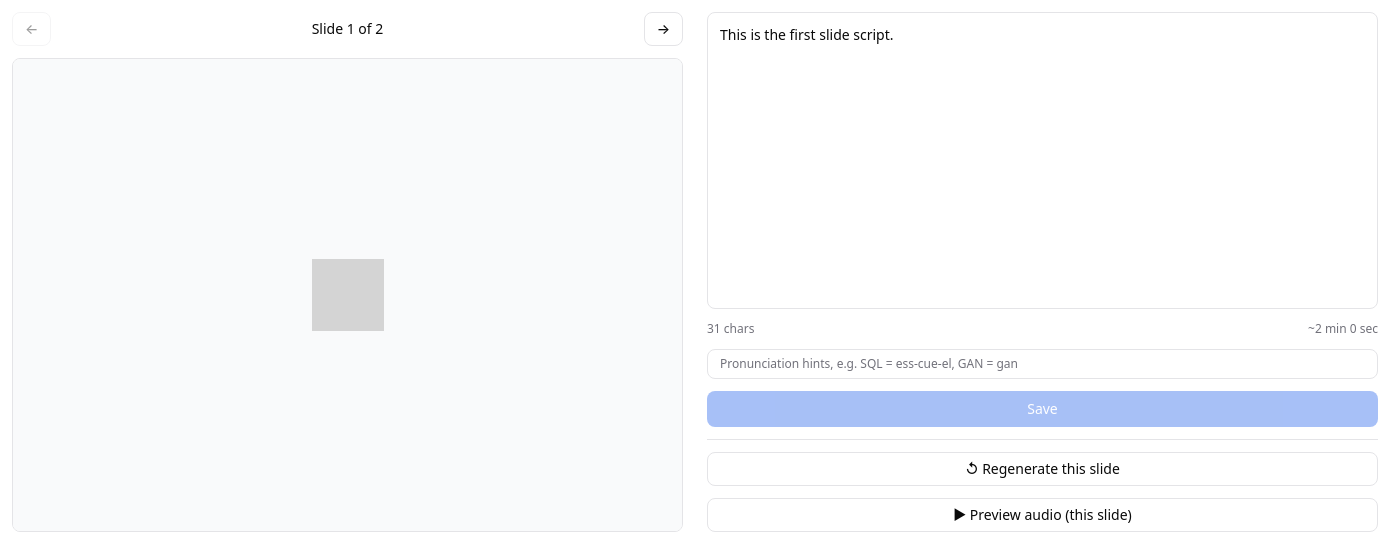
Test case: SlideEditor › clicking Next renders slide 2 content
The width and height of the screenshot is (1390, 549).
Click the button named "Next slide".
click(663, 29)  # box left=644, top=12, right=683, bottom=46
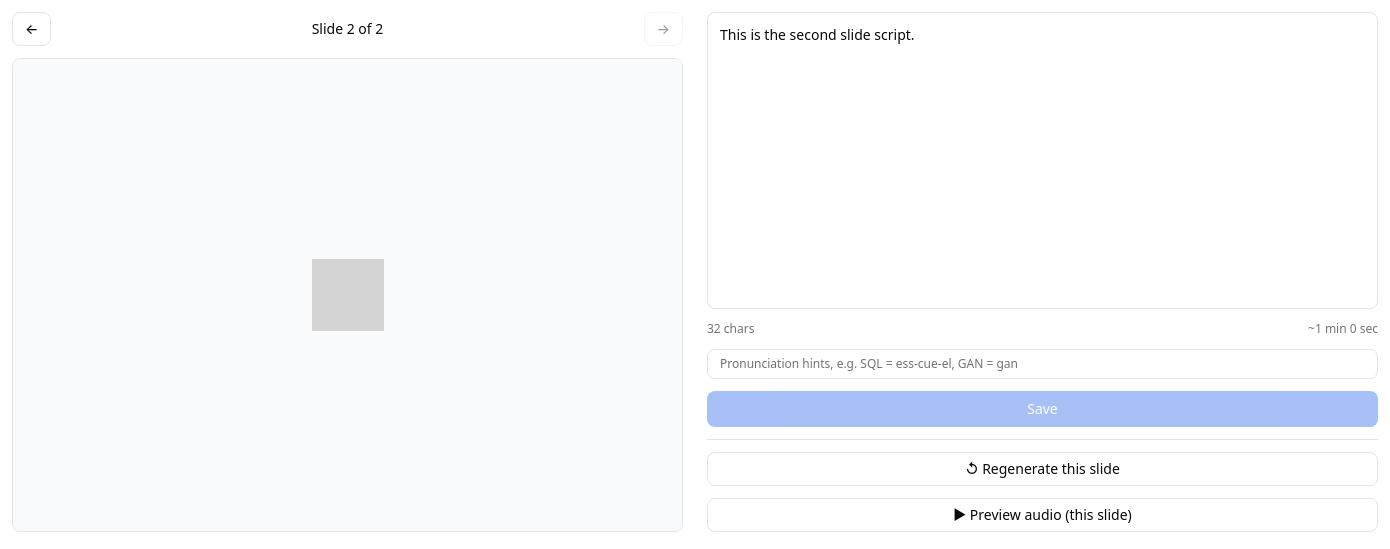
Now the text "Slide 2 of 2" is shown, box left=312, top=19, right=383, bottom=39
Now the text box showing "This is the second slide script." is shown, box left=707, top=12, right=1378, bottom=309
